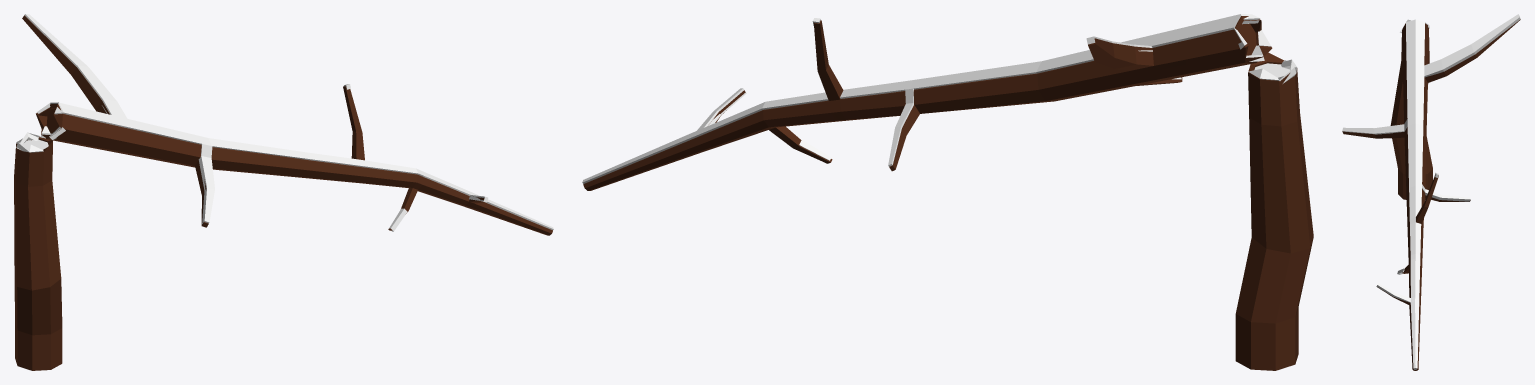
The model's file is SNOW_DEAD_WOOD_1.glb.
The picture shows the model from 3 angles, left to right: view 1: azimuth 30°, elevation 25°; view 2: azimuth 150°, elevation 25°; view 3: azimuth 270°, elevation 25°; orthographic projection. The views are drawn at different scales.
Visible parts, largest first — view 1: Cylinder.011; view 2: Cylinder.011; view 3: Cylinder.011.
Part boxes in pixels (left/top/right/bottom): Cylinder.011: left=14, top=14, right=553, bottom=370; Cylinder.011: left=582, top=14, right=1313, bottom=370; Cylinder.011: left=1342, top=14, right=1520, bottom=370.
Size of the model in its own units: 2.78 by 1.37 by 1.11.
